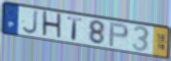3: (131, 25, 152, 53)
8: (88, 19, 107, 45)
H: (41, 10, 63, 41)
J: (21, 9, 39, 36)
P: (108, 22, 130, 49)
T: (66, 15, 84, 42)
